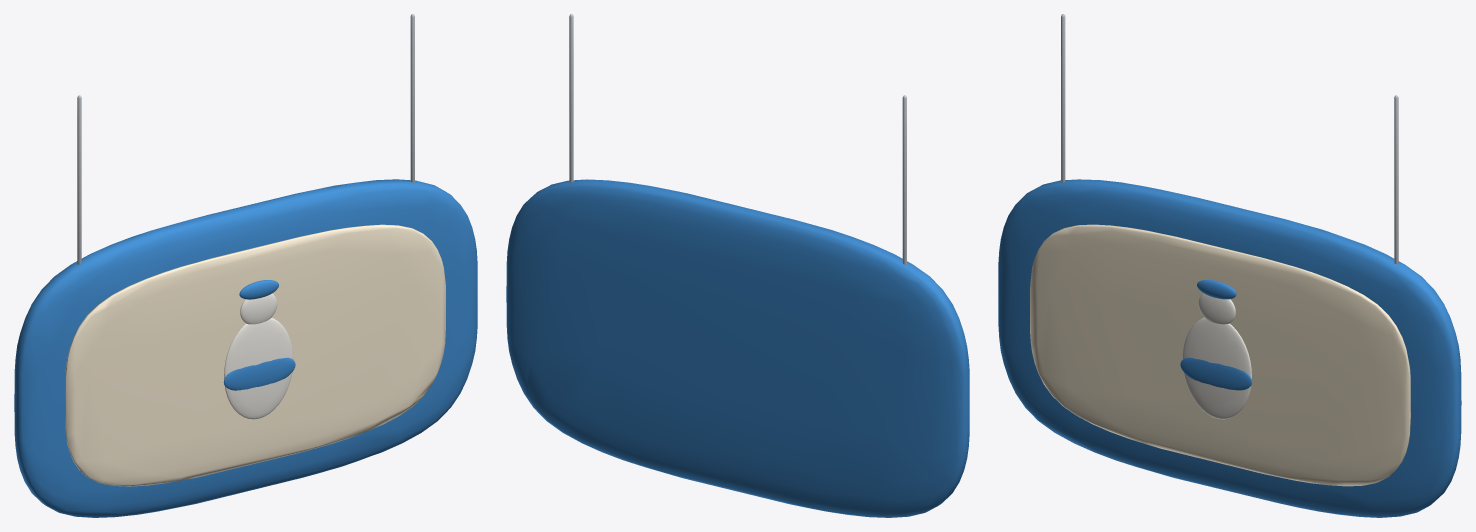
File: letrero_lacteos.glb
The picture shows the model from 3 angles, left to right: view 1: azimuth 30°, elevation 25°; view 2: azimuth 150°, elevation 25°; view 3: azimuth 330°, elevation 25°; orthographic projection.
Parts seen in each view (by area): view 1: placa letrero.002, letrero sección.002, botella.004, etiqueta.007, cuello.001, cadena letrero.004, cadena letrero.005, tapa.008; view 2: letrero sección.002, cadena letrero.004, cadena letrero.005; view 3: placa letrero.002, letrero sección.002, botella.004, etiqueta.007, cuello.001, cadena letrero.005, cadena letrero.004, tapa.008.
Part boxes in pixels (<box>): placa letrero.002: <box>65,224,445,486</box>; letrero sección.002: <box>14,179,477,517</box>; botella.004: <box>224,317,293,419</box>; etiqueta.007: <box>223,357,295,390</box>; cuello.001: <box>240,293,277,324</box>; cadena letrero.004: <box>77,95,81,264</box>; cadena letrero.005: <box>410,14,414,182</box>; tapa.008: <box>239,280,278,299</box>; letrero sección.002: <box>506,179,969,517</box>; cadena letrero.004: <box>902,95,906,264</box>; cadena letrero.005: <box>569,14,573,182</box>; placa letrero.002: <box>1030,224,1410,486</box>; letrero sección.002: <box>998,179,1461,517</box>; botella.004: <box>1182,317,1251,419</box>; etiqueta.007: <box>1180,357,1251,390</box>; cuello.001: <box>1198,293,1235,324</box>; cadena letrero.005: <box>1394,95,1398,264</box>; cadena letrero.004: <box>1061,14,1065,182</box>; tapa.008: <box>1197,280,1236,299</box>.
Size of the model in its own units: 1.16 by 1.05 by 0.106.
